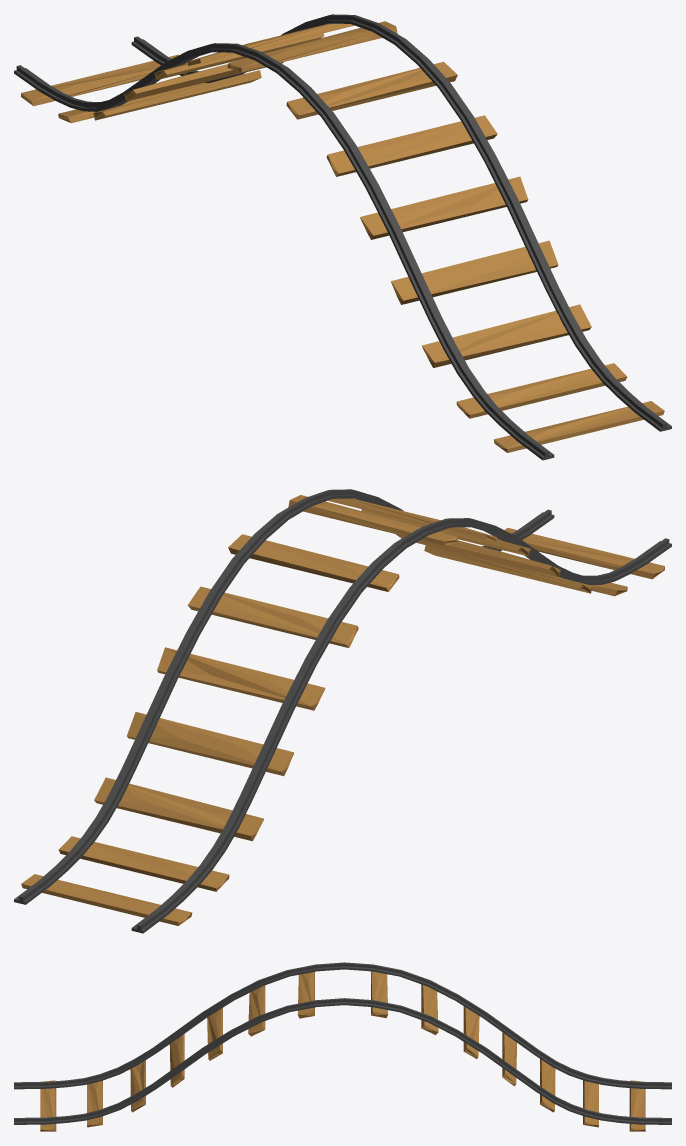
File: Model_Track_Bump.FBX
3 renders of one model, top to bottom at view 1: azimuth 30°, elevation 25°; view 2: azimuth 150°, elevation 25°; view 3: azimuth 270°, elevation 25°, orthographic. The views are drawn at different scales.
Visible parts, largest first — view 1: Track_BumpUp, Object020, Object019; view 2: Track_BumpUp; view 3: Track_BumpUp.
Part boxes in pixels (x1,y1,x2,y2): Track_BumpUp: [14, 14, 671, 460]; Object020: [229, 21, 397, 71]; Object019: [286, 63, 454, 115]; Track_BumpUp: [14, 489, 671, 933]; Track_BumpUp: [14, 962, 671, 1131].
Size of the model in its own units: 205 by 251 by 1178.
